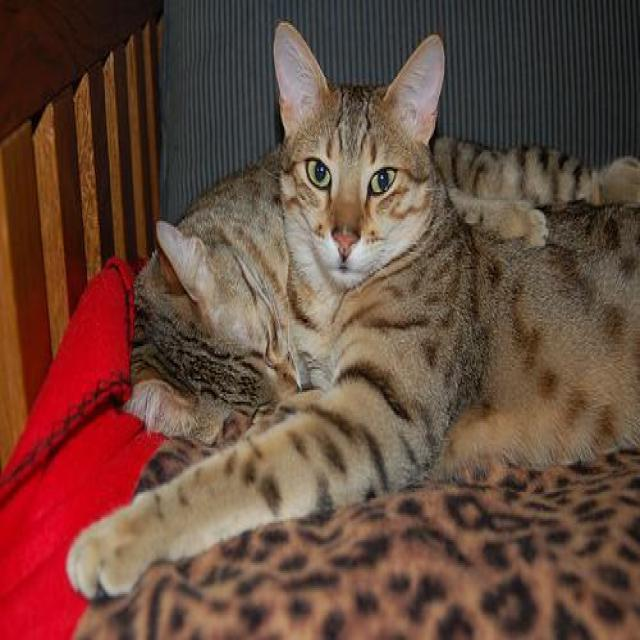cat: (66, 21, 640, 599), (129, 133, 639, 443)
